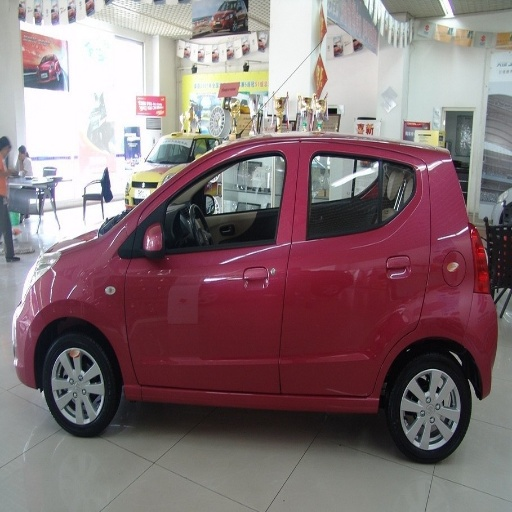back_left_door: (273, 146, 429, 395)
front_left_door: (127, 149, 292, 390)
